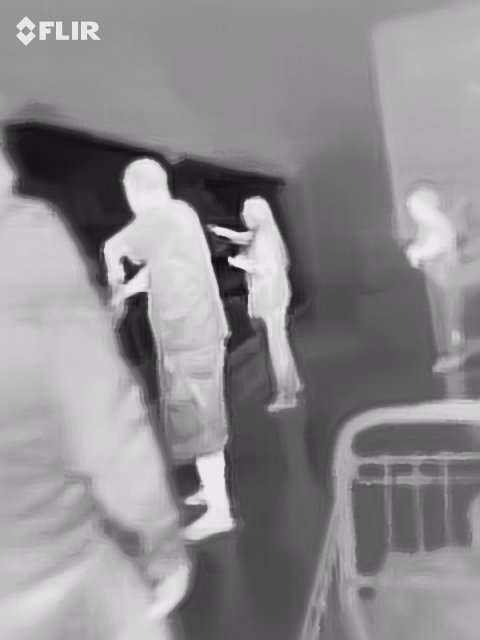head: (121, 157, 170, 216), (239, 193, 273, 228)
